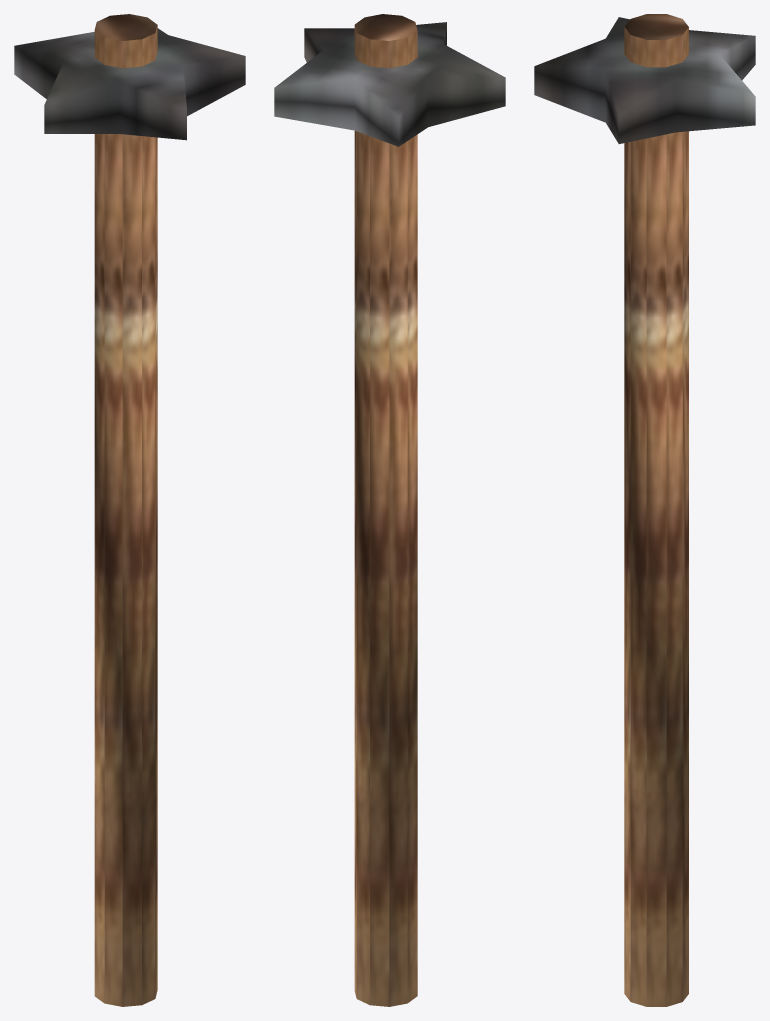
File: inca_mace_2.dae
3 views of the same model, side by side, from view 1: azimuth 30°, elevation 25°; view 2: azimuth 150°, elevation 25°; view 3: azimuth 270°, elevation 25° (orthographic).
Visible parts, largest first — view 1: club_estrela_2; view 2: club_estrela_2; view 3: club_estrela_2.
Part boxes in pixels (bbox=[...]): club_estrela_2: bbox=[14, 14, 245, 1006]; club_estrela_2: bbox=[274, 14, 505, 1006]; club_estrela_2: bbox=[534, 14, 755, 1006].
Size of the model in its own units: 0.4052 by 0.3853 by 1.86.
